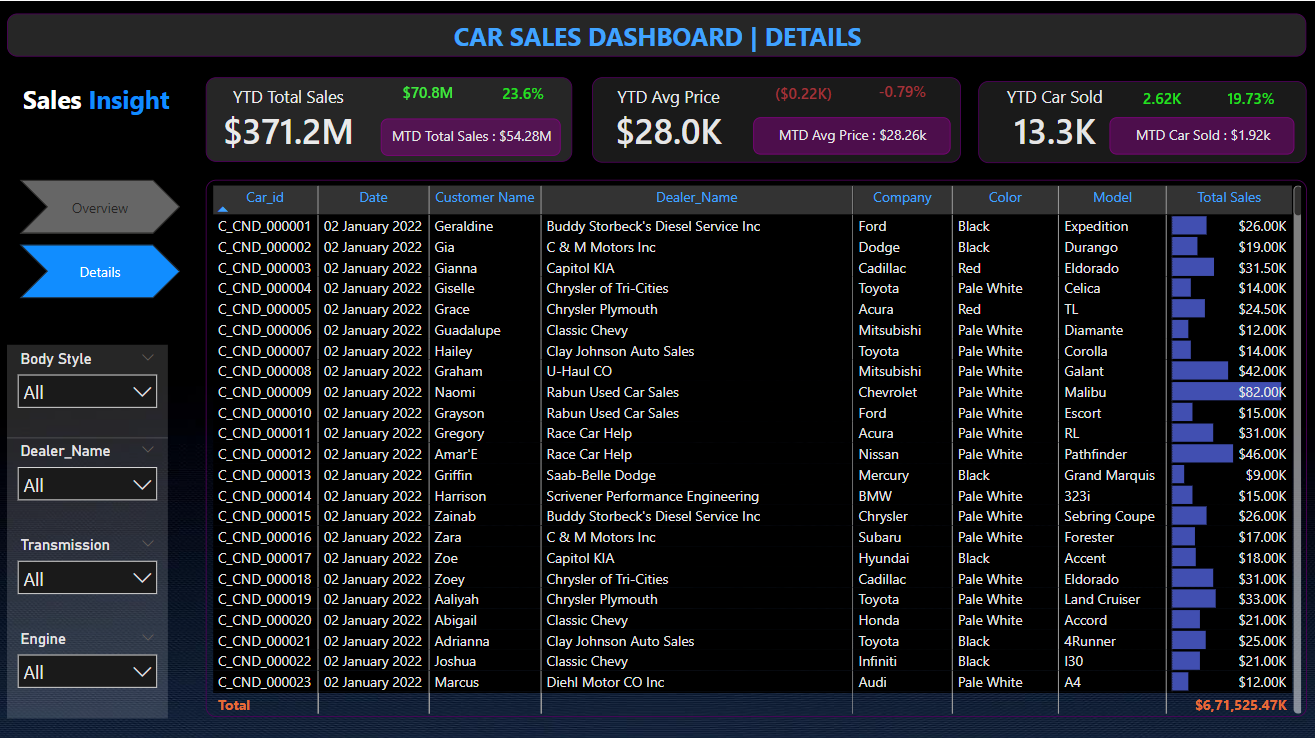

The page's visual inventory and layout, read from the dashboard file:
{"tool":"powerbi","page":{"name":"Details","canvas":[1280,720],"ordinal":1},"visuals":[{"type":"card","title":"YTD Total Sales","fields":{"Values":["car_data.YTD  Total sales"]},"box":[201.4,80.8,159.2,68.7],"z":0},{"type":"card","title":"YOY Sales Difference","fields":{"Values":["car_data.Sales Difference"]},"box":[370.3,74.8,91.7,31.4],"z":1000},{"type":"shape","box":[201.2,73.8,353.8,81.2],"z":2000},{"type":"card","title":"YOY Sales Difference","fields":{"Values":["car_data.YOY Sales Growth"]},"box":[461.9,76,91.7,31.4],"z":3000},{"type":"card","fields":{"Values":["car_data.MTD KPI"]},"box":[370.3,113.4,173.7,36.2],"z":4000},{"type":"shape","box":[573.8,73.8,356.2,82.5],"z":5000},{"type":"shape","box":[946.7,77.2,317.2,79.6],"z":6000},{"type":"card","title":"YTD Avg Price","fields":{"Values":["car_data.YTD Avg Price"]},"box":[573.8,81.2,147.5,68.8],"z":7000},{"type":"card","title":"YOY Sales Difference","fields":{"Values":["car_data.Avg Price Diff"]},"box":[732.5,76.2,92.5,31.2],"z":8000},{"type":"card","fields":{"Values":["car_data.MTD Avg Price KPI"]},"box":[730,112.5,190,36.2],"z":9000},{"type":"card","title":"YOY Sales Difference","fields":{"Values":["car_data.YOY Avg Price Growth"]},"box":[827.5,73.8,92.5,31.2],"z":10000},{"type":"card","title":"YTD Car Sold","fields":{"Values":["car_data.YTD Car Sales"]},"box":[946.2,81.2,147.5,68.8],"z":11000},{"type":"card","title":"YOY Sales Difference","fields":{"Values":["car_data.Car Sold Difference"]},"box":[1078.8,81.2,92.5,31.2],"z":12000},{"type":"card","title":"YOY Sales Difference","fields":{"Values":["car_data.YOY Car Sold Growth"]},"box":[1163.8,81.2,92.5,31.2],"z":13000},{"type":"card","fields":{"Values":["car_data.MTD Car Sold KPI"]},"box":[1073.8,112.5,178.8,36.2],"z":14000},{"type":"textbox","box":[10,12.5,1253.8,41.2],"z":15000},{"type":"slicer","fields":{"Values":["car_data.Body Style"]},"box":[10,331.2,155,90],"z":16000},{"type":"slicer","fields":{"Values":["car_data.Dealer_Name"]},"box":[10,421.2,155,90],"z":17000},{"type":"slicer","fields":{"Values":["car_data.Transmission"]},"box":[10,511.2,155,90],"z":18000},{"type":"slicer","fields":{"Values":["car_data.Engine"]},"box":[10,601.2,155,90],"z":19000},{"type":"tableEx","fields":{"Values":["car_data.Car_id","car_data.Date","car_data.Customer Name","car_data.Dealer_Name","car_data.Company","car_data.Color","car_data.Model","car_data.Total Sales"]},"box":[201.2,172.5,1062.5,518.8],"z":20000},{"type":"textbox","box":[0,73.8,191.2,57.5],"z":21000},{"type":"pageNavigator","box":[21.2,172.5,155,115],"z":21001}]}

Visuals, with their boxes in screenshot pixels (x1, y1, x2, y2), scaled from the page's 1280x720 canvas onto the 1315x738 screenshot:
"YTD Total Sales" card: 207 83 370 153
"YOY Sales Difference" card: 380 77 475 109
shape: 207 76 570 159
"YOY Sales Difference" card: 475 78 569 110
card - car_data.MTD KPI: 380 116 559 153
shape: 589 76 955 160
shape: 973 79 1298 161
"YTD Avg Price" card: 589 83 741 154
"YOY Sales Difference" card: 753 78 848 110
card - car_data.MTD Avg Price KPI: 750 115 945 152
"YOY Sales Difference" card: 850 76 945 108
"YTD Car Sold" card: 972 83 1124 154
"YOY Sales Difference" card: 1108 83 1203 115
"YOY Sales Difference" card: 1196 83 1291 115
card - car_data.MTD Car Sold KPI: 1103 115 1287 152
textbox: 10 13 1298 55
slicer - car_data.Body Style: 10 339 170 432
slicer - car_data.Dealer_Name: 10 432 170 524
slicer - car_data.Transmission: 10 524 170 616
slicer - car_data.Engine: 10 616 170 708
tableEx - car_data.Car_id x car_data.Date: 207 177 1298 709
textbox: 0 76 196 135
pageNavigator: 22 177 181 295
